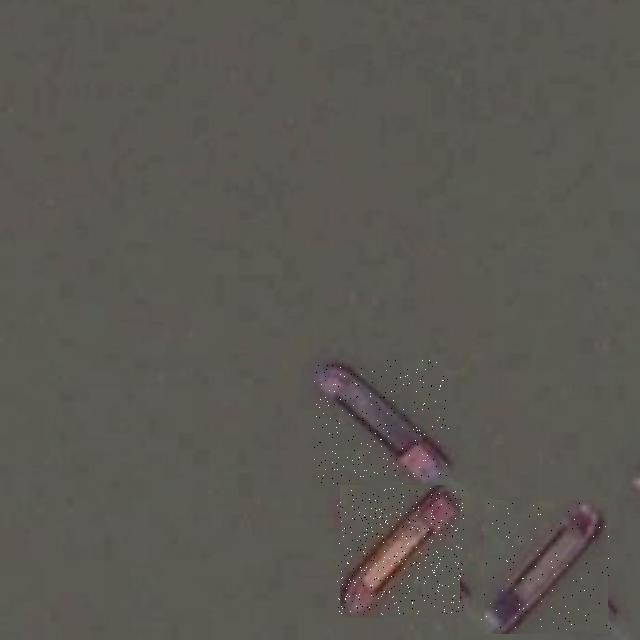boat: (313, 360, 449, 484), (481, 503, 611, 632), (337, 488, 464, 615)
